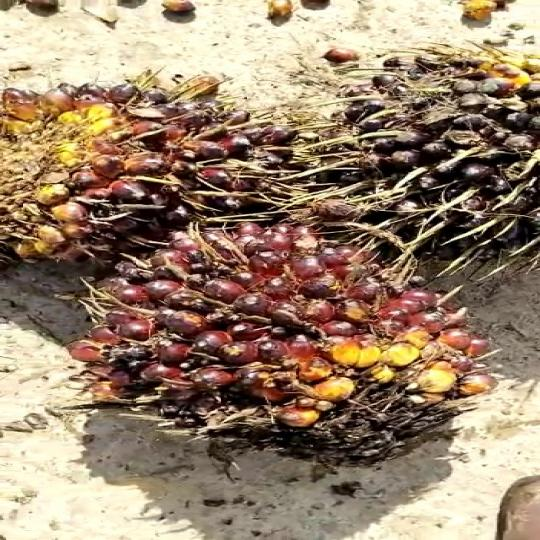kurang masak: (64, 221, 492, 456), (320, 34, 540, 270), (0, 81, 253, 273)
